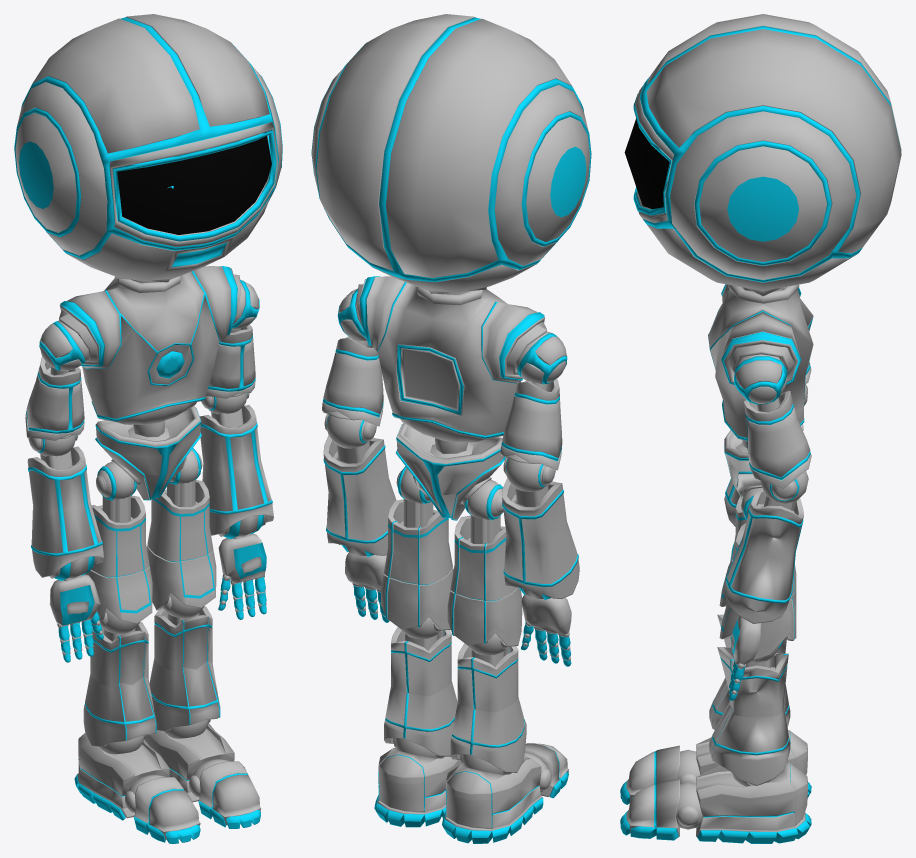
The model's file is Robot02glb.glb.
The picture shows the model from 3 angles, left to right: view 1: azimuth 30°, elevation 25°; view 2: azimuth 150°, elevation 25°; view 3: azimuth 270°, elevation 25°; orthographic projection. The views are drawn at different scales.
Visible parts, largest first — view 1: RobotHEad:polySurface15, polySurface89, polySurface73, polySurface36, polySurface33, polySurface64, polySurface60, polySurface71, polySurface32, polySurface77, polySurface66, polySurface53 (+24 smaller); view 2: RobotHEad:polySurface15, polySurface89, polySurface73, polySurface33, polySurface36, polySurface71, polySurface64, polySurface60, polySurface32, polySurface77, polySurface66, polySurface53 (+17 smaller); view 3: RobotHEad:polySurface15, polySurface89, polySurface36, polySurface60, polySurface53, polySurface69, polySurface68, polySurface45, polySurface33, polySurface80, polySurface91, polySurface32 (+9 smaller).
Boxes of the visible parts, box(x1,y1,x2,y2) form: RobotHEad:polySurface15: box(14, 14, 282, 282); polySurface89: box(59, 266, 238, 422); polySurface73: box(83, 622, 156, 746); polySurface36: box(149, 606, 220, 731); polySurface33: box(146, 480, 216, 610); polySurface64: box(27, 446, 104, 577); polySurface60: box(199, 405, 273, 535); polySurface71: box(85, 495, 152, 623); polySurface32: box(95, 406, 201, 500); polySurface77: box(77, 733, 169, 818); polySurface66: box(25, 356, 84, 440); polySurface53: box(144, 723, 234, 802); RobotHEad:polySurface15: box(311, 14, 591, 293); polySurface89: box(359, 276, 544, 439); polySurface73: box(450, 643, 526, 772); polySurface33: box(381, 499, 453, 630); polySurface36: box(384, 627, 457, 756); polySurface71: box(447, 515, 522, 646); polySurface64: box(502, 478, 579, 598); polySurface60: box(323, 435, 396, 555); polySurface32: box(396, 423, 505, 520); polySurface77: box(445, 756, 542, 830); polySurface66: box(500, 379, 562, 470); polySurface53: box(377, 747, 461, 814); RobotHEad:polySurface15: box(624, 14, 901, 296); polySurface89: box(708, 284, 813, 441); polySurface36: box(709, 647, 790, 785); polySurface60: box(725, 488, 803, 623); polySurface53: box(696, 762, 807, 836); polySurface69: box(743, 391, 811, 488); polySurface68: box(734, 354, 787, 404); polySurface45: box(626, 778, 679, 836); polySurface33: box(719, 523, 796, 660); polySurface80: box(626, 745, 679, 801); polySurface91: box(697, 813, 811, 843); polySurface32: box(724, 430, 761, 499).
Bounding box in the file's own units: 0.0866 × 0.27 × 0.0876.
